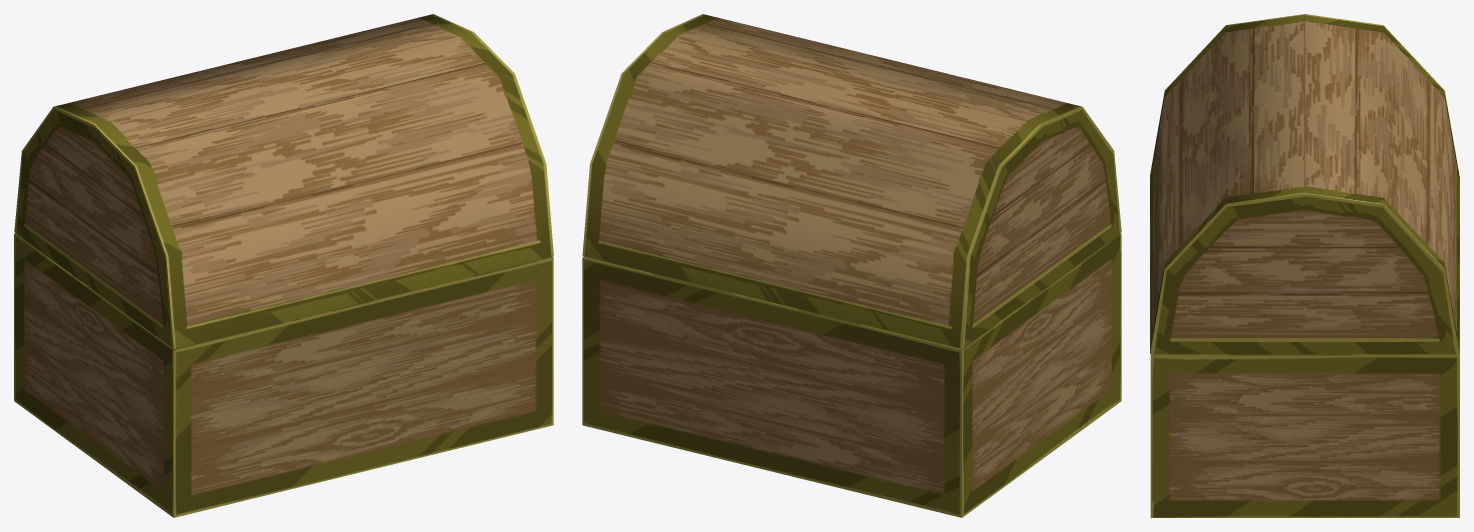
The model's file is Chest.fbx.
3 renders of one model, left to right at view 1: azimuth 30°, elevation 25°; view 2: azimuth 150°, elevation 25°; view 3: azimuth 270°, elevation 25°, orthographic. The views are drawn at different scales.
Visible parts, largest first — view 1: Chest; view 2: Chest; view 3: Chest.
Boxes of the visible parts, box(x1,y1,x2,y2) form: Chest: box(14, 14, 553, 517); Chest: box(582, 14, 1121, 517); Chest: box(1150, 14, 1459, 517).
Bounding box in the file's own units: 62.26 × 52.39 × 45.34.
